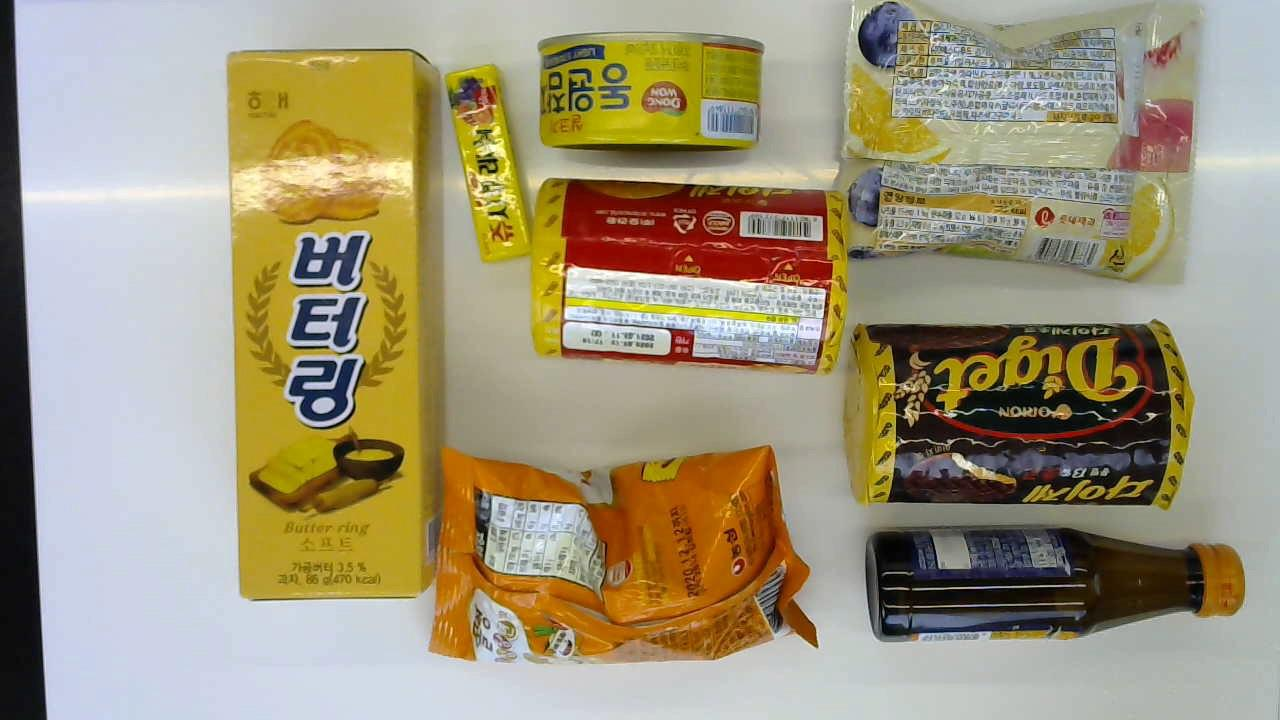buttering: (227, 48, 439, 597)
diget_choco: (847, 322, 1194, 503)
diget_ori: (529, 179, 838, 356)
gumi_gumi: (836, 0, 1188, 281)
jjolbyung_noodle: (437, 439, 818, 662)
juicyfresh: (444, 63, 528, 262)
tuna: (537, 31, 760, 148)
vita500: (865, 522, 1246, 641)
